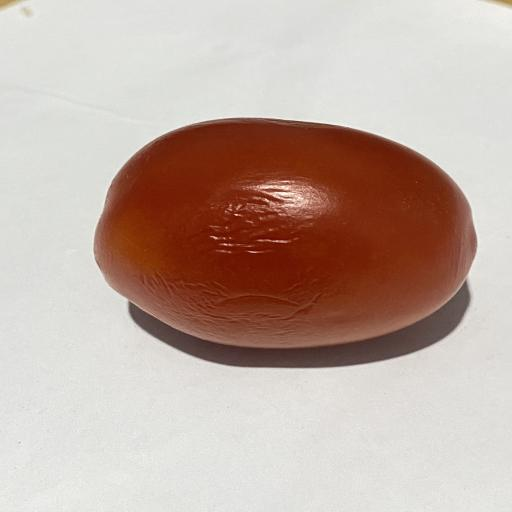spoiled: (95, 119, 476, 348)
